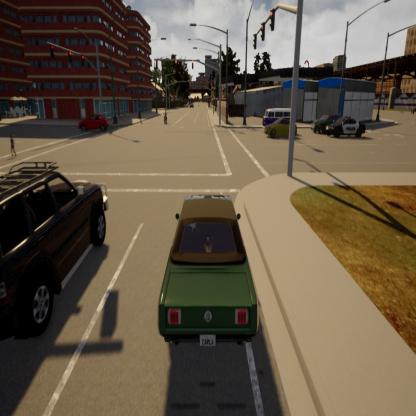Cars: (0, 124, 116, 347), (148, 169, 263, 383), (314, 100, 355, 143), (326, 115, 375, 148), (259, 103, 299, 131), (264, 116, 298, 145), (186, 97, 196, 110)
Pedestrian: (2, 110, 22, 167)
